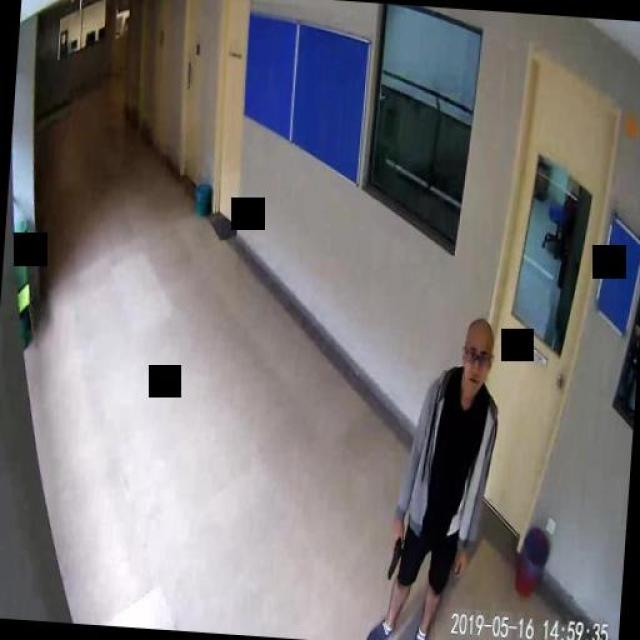gun: (387, 529, 402, 579)
